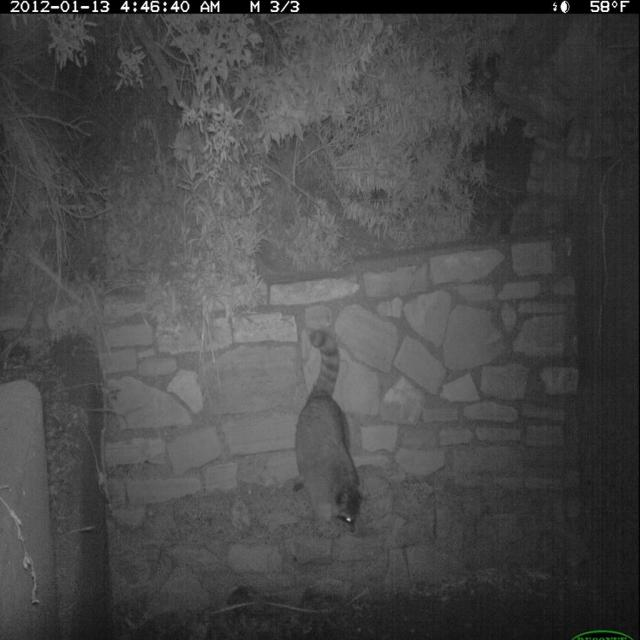raccoon: (292, 324, 374, 540)
